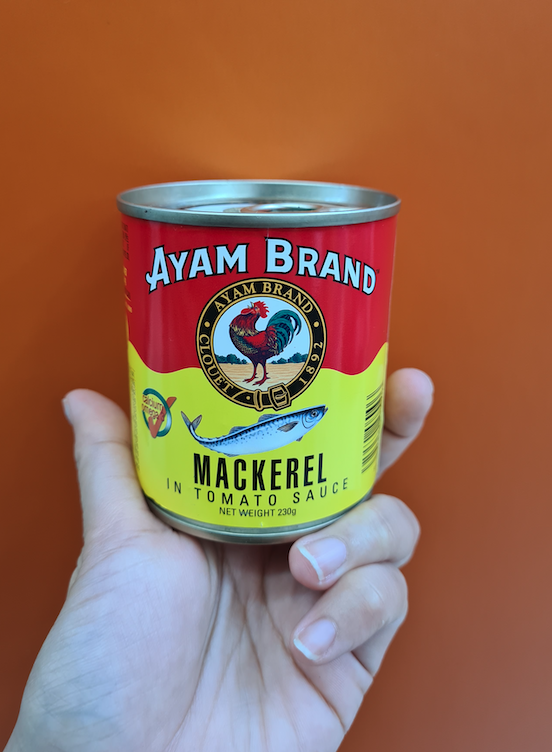Canned_Sardines_and_Mackerel: (129, 200, 378, 521)
